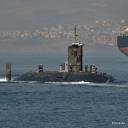submarine: (6, 46, 122, 84)
